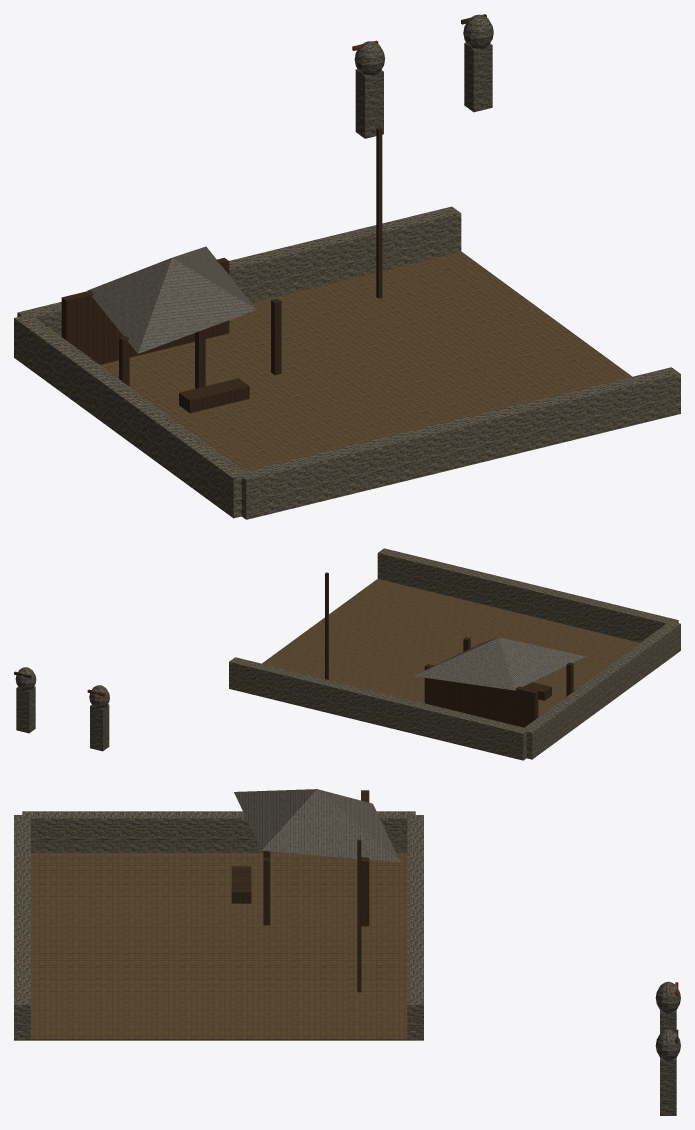
Rendered from era_post_station_01.glb.
The picture shows the model from 3 angles, top to bottom: view 1: azimuth 30°, elevation 25°; view 2: azimuth 150°, elevation 25°; view 3: azimuth 270°, elevation 25°; orthographic projection. The views are drawn at different scales.
Parts seen in each view (by area): view 1: era_post_station_01; view 2: era_post_station_01; view 3: era_post_station_01.
Part boxes in pixels (x1=…): era_post_station_01: x1=14, y1=14, x2=680, y2=519; era_post_station_01: x1=14, y1=548, x2=680, y2=760; era_post_station_01: x1=14, y1=789, x2=680, y2=1115.
Size of the model in its own units: 22.8 by 6 by 23.75.
6 materials, 6 textured.
